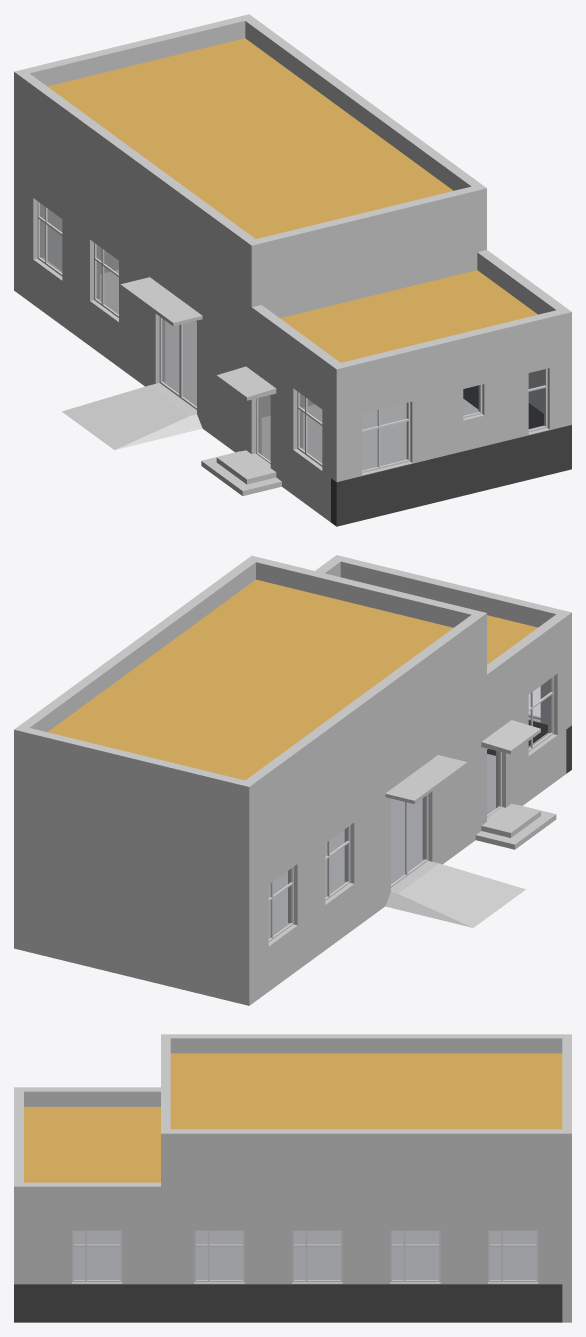
Rendered from House02.gltf.
The picture shows the model from 3 angles, top to bottom: view 1: azimuth 30°, elevation 25°; view 2: azimuth 150°, elevation 25°; view 3: azimuth 270°, elevation 25°; orthographic projection. The views are drawn at different scales.
Parts seen in each view (by area): view 1: Obj3d66_10278655_274_39-Mat3d66-10278655-3-31610, 平面, Obj3d66_10278655_275_342, glass, Obj3d66_10278655_274_39-材质; view 2: Obj3d66_10278655_274_39-Mat3d66-10278655-3-31610, 平面, glass, Obj3d66_10278655_274_39-材质; view 3: Obj3d66_10278655_274_39-Mat3d66-10278655-3-31610, 平面, Obj3d66_10278655_275_342, glass, Obj3d66_10278655_274_39-材质.
Part boxes in pixels (x1,y1,x2,y2): Obj3d66_10278655_274_39-Mat3d66-10278655-3-31610: (14, 14, 571, 522); 平面: (47, 38, 537, 362); Obj3d66_10278655_275_342: (331, 385, 571, 526); glass: (40, 203, 544, 470); Obj3d66_10278655_274_39-材质: (37, 201, 547, 473); Obj3d66_10278655_274_39-Mat3d66-10278655-3-31610: (14, 555, 571, 1005); 平面: (47, 579, 537, 780); glass: (269, 679, 550, 938); Obj3d66_10278655_274_39-材质: (268, 677, 553, 942); Obj3d66_10278655_274_39-Mat3d66-10278655-3-31610: (14, 1034, 571, 1322); 平面: (24, 1053, 562, 1182); Obj3d66_10278655_275_342: (14, 1284, 562, 1322); glass: (74, 1231, 536, 1279); Obj3d66_10278655_274_39-材质: (72, 1230, 538, 1282).
Size of the model in its own units: 990 by 640 by 1710.
